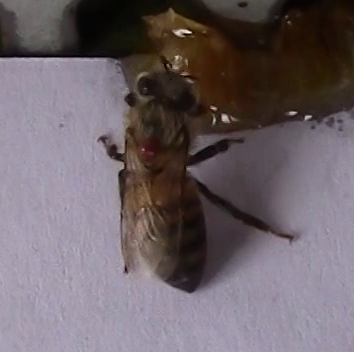Varroa destructor: (136, 132, 162, 162)
